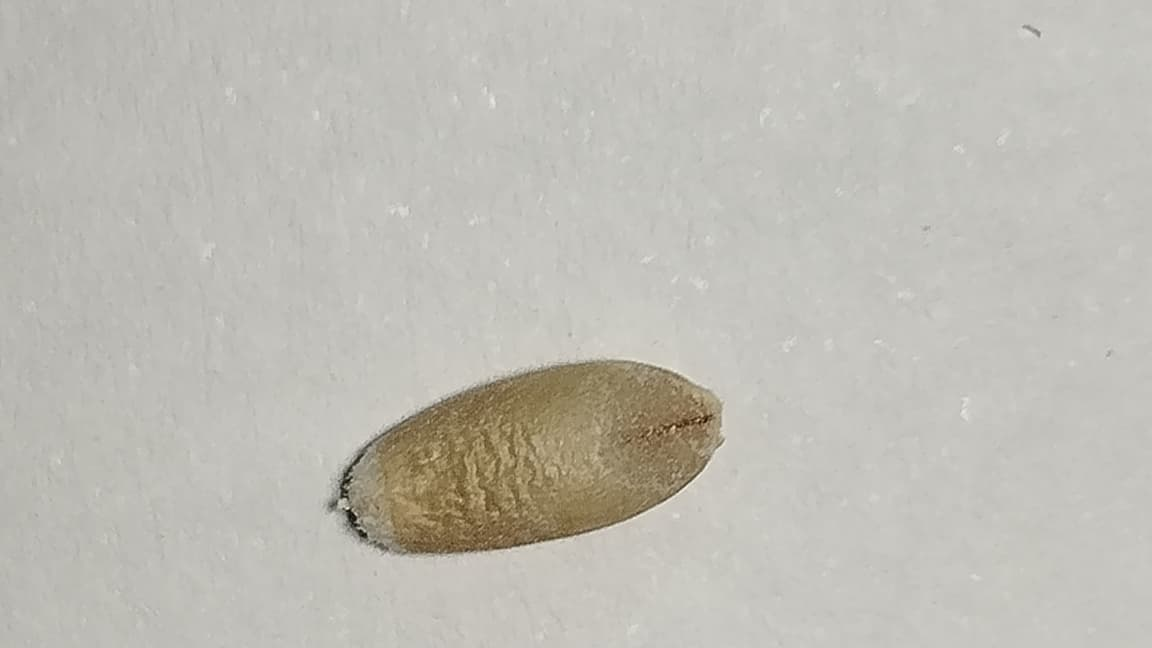damage: (337, 359, 722, 558)
insectdamage: (613, 353, 723, 503)
